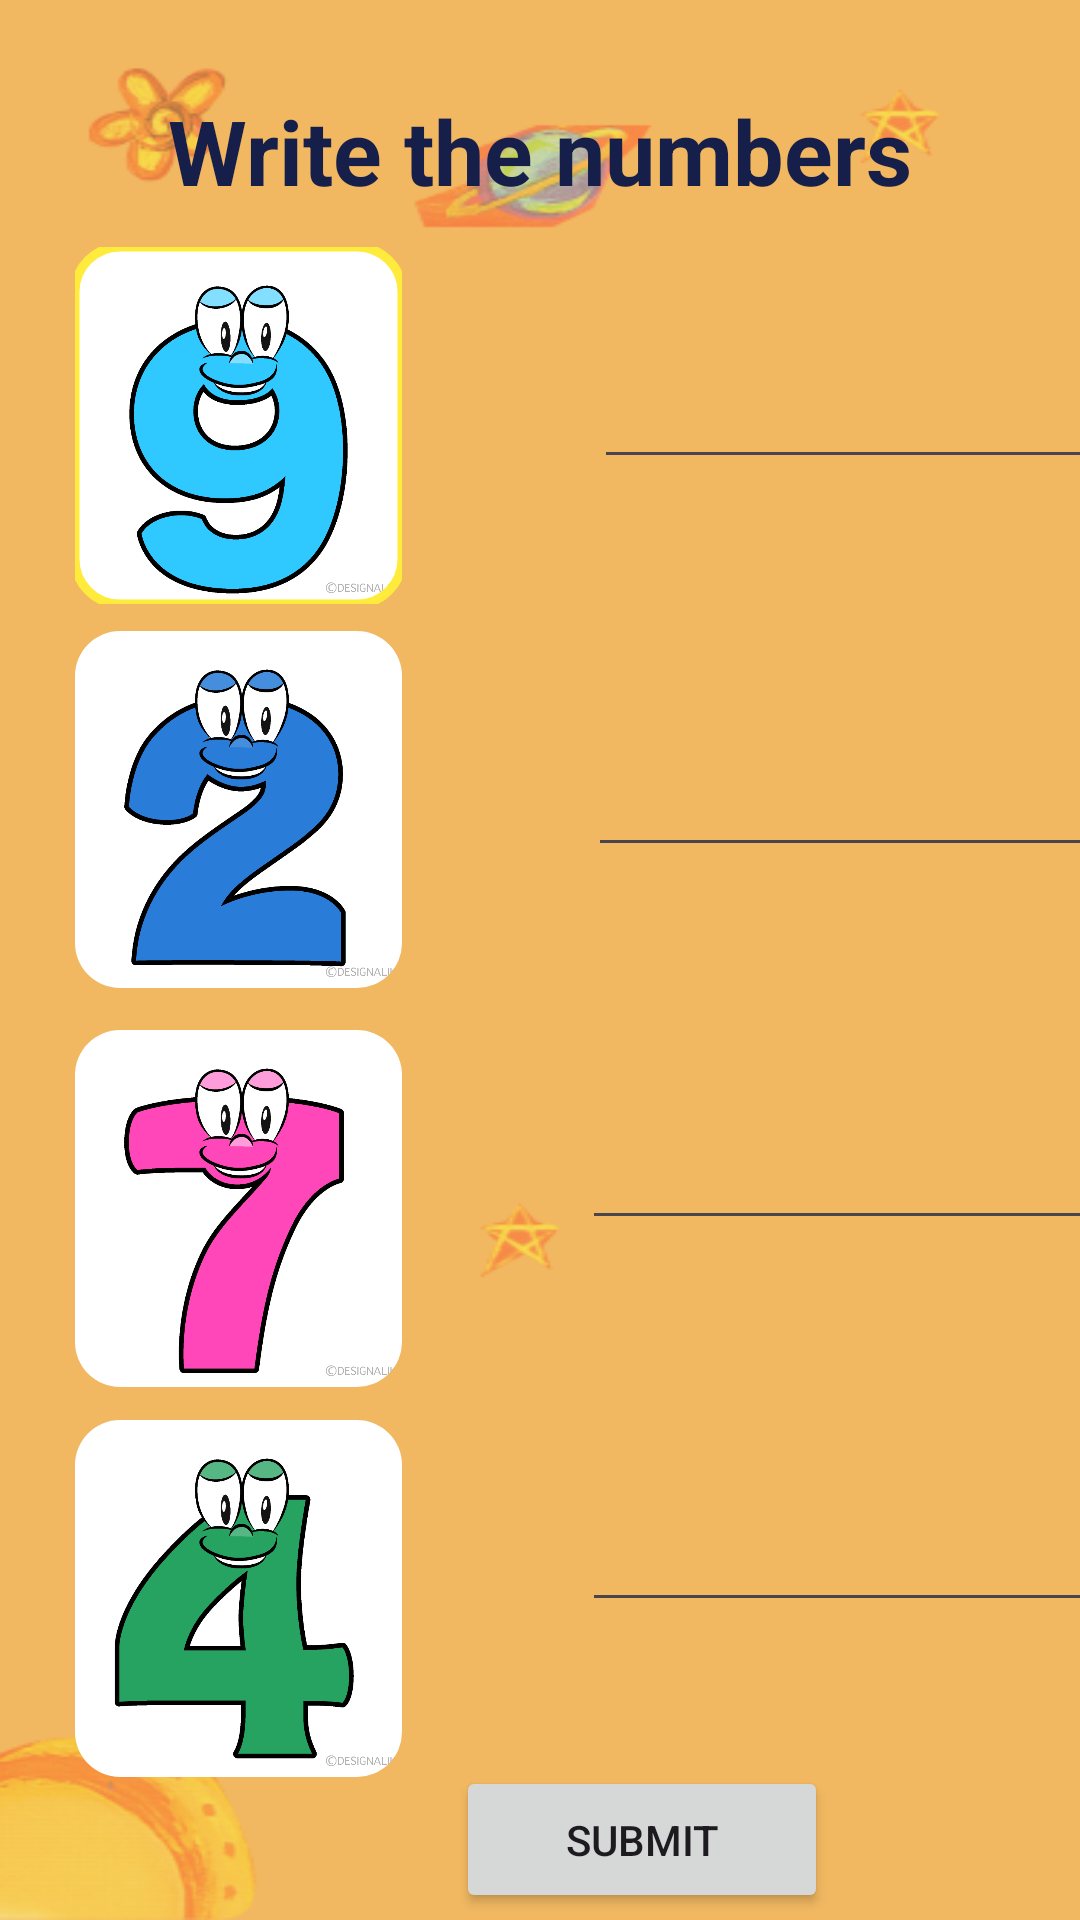

Icons on this 1080px x 1920px Android screen, each with its box as (x1, y1, x2, y2):
nine: (75, 247, 402, 604)
seven: (75, 1030, 402, 1387)
